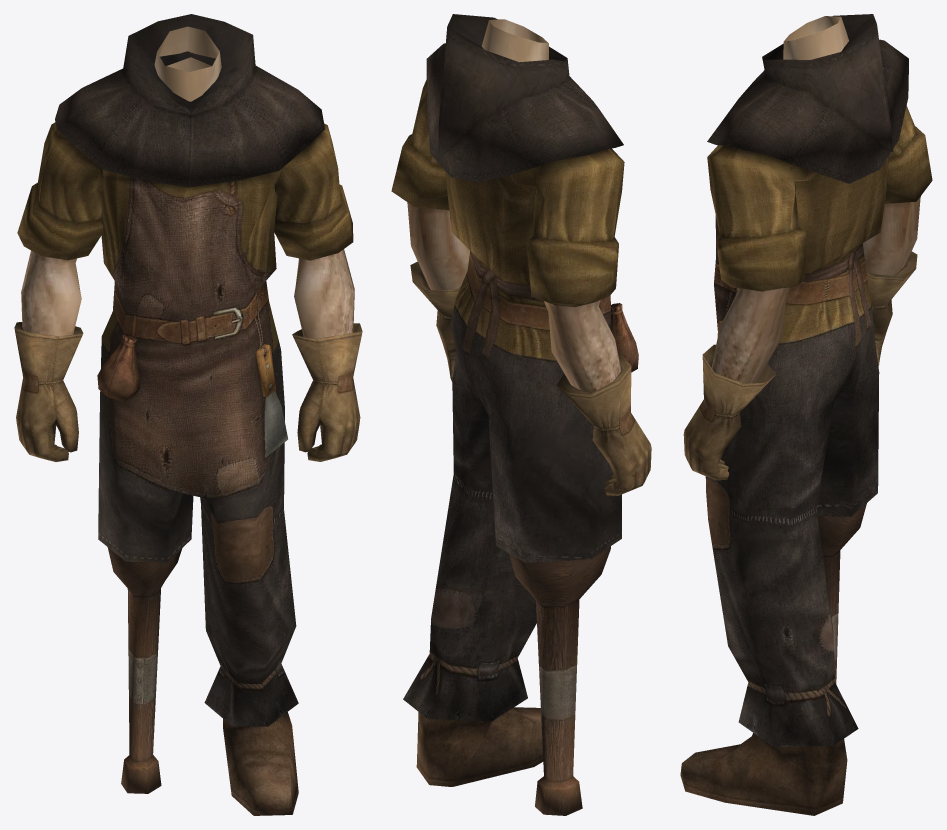
File: ARMOR_GRAVEDIGGER_01_WOODENLEG.glb
The picture shows the model from 3 angles, left to right: view 1: azimuth 30°, elevation 25°; view 2: azimuth 150°, elevation 25°; view 3: azimuth 270°, elevation 25°; orthographic projection. The views are drawn at different scales.
Visible parts, largest first — view 1: ARMOR_GRAVEDIGGER_01_WOODENLEG; view 2: ARMOR_GRAVEDIGGER_01_WOODENLEG; view 3: ARMOR_GRAVEDIGGER_01_WOODENLEG.
Part boxes in pixels (x1,y1,x2,y2): ARMOR_GRAVEDIGGER_01_WOODENLEG: (14,14,362,815); ARMOR_GRAVEDIGGER_01_WOODENLEG: (391,14,651,815); ARMOR_GRAVEDIGGER_01_WOODENLEG: (680,14,932,815).
Size of the model in its own units: 0.6718 by 1.68 by 0.509.
2 materials, 2 textured.
